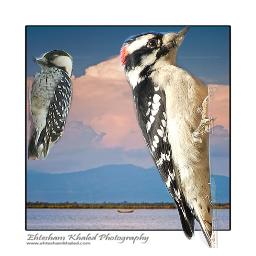Woodpecker: (119, 26, 218, 248), (28, 49, 73, 160)
